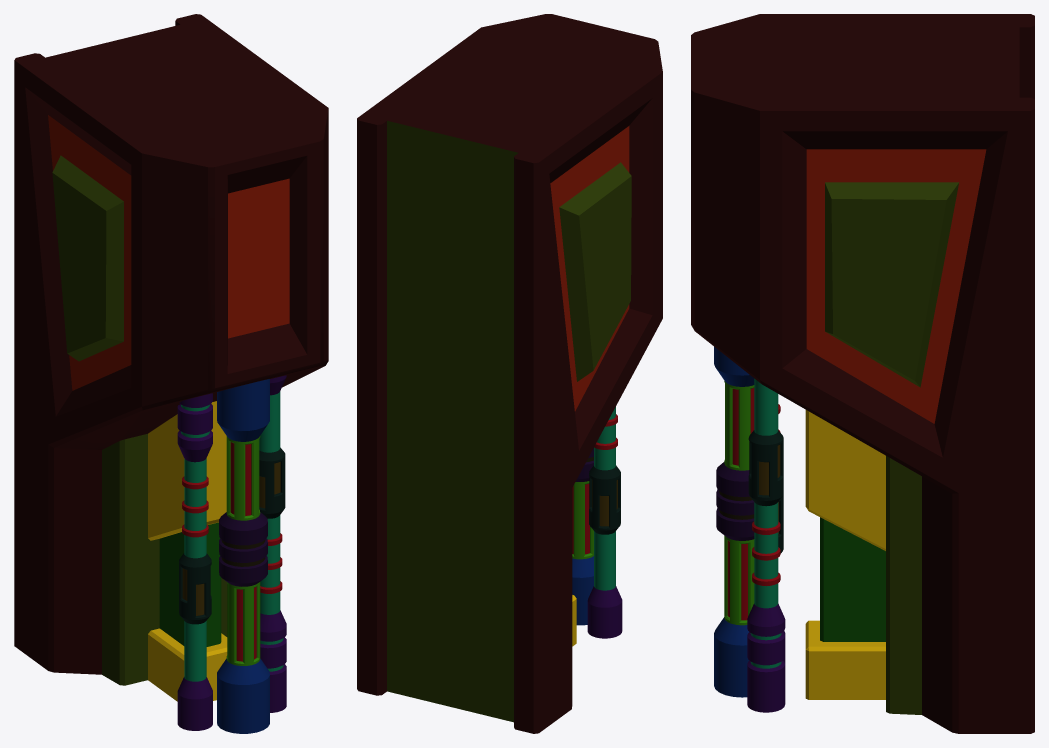
Rendered from OBJ_Pillier_Cube.fbx.
3 views of the same model, side by side, from view 1: azimuth 30°, elevation 25°; view 2: azimuth 150°, elevation 25°; view 3: azimuth 270°, elevation 25° (orthographic). The views are drawn at different scales.
Parts seen in each view (by area): view 1: OBJ_Pillier_Cube; view 2: OBJ_Pillier_Cube; view 3: OBJ_Pillier_Cube.
Part boxes in pixels (x1,y1,x2,y2): OBJ_Pillier_Cube: [14, 14, 328, 733]; OBJ_Pillier_Cube: [357, 14, 662, 733]; OBJ_Pillier_Cube: [691, 14, 1034, 733].
Size of the model in its own units: 20.36 by 60 by 30.
